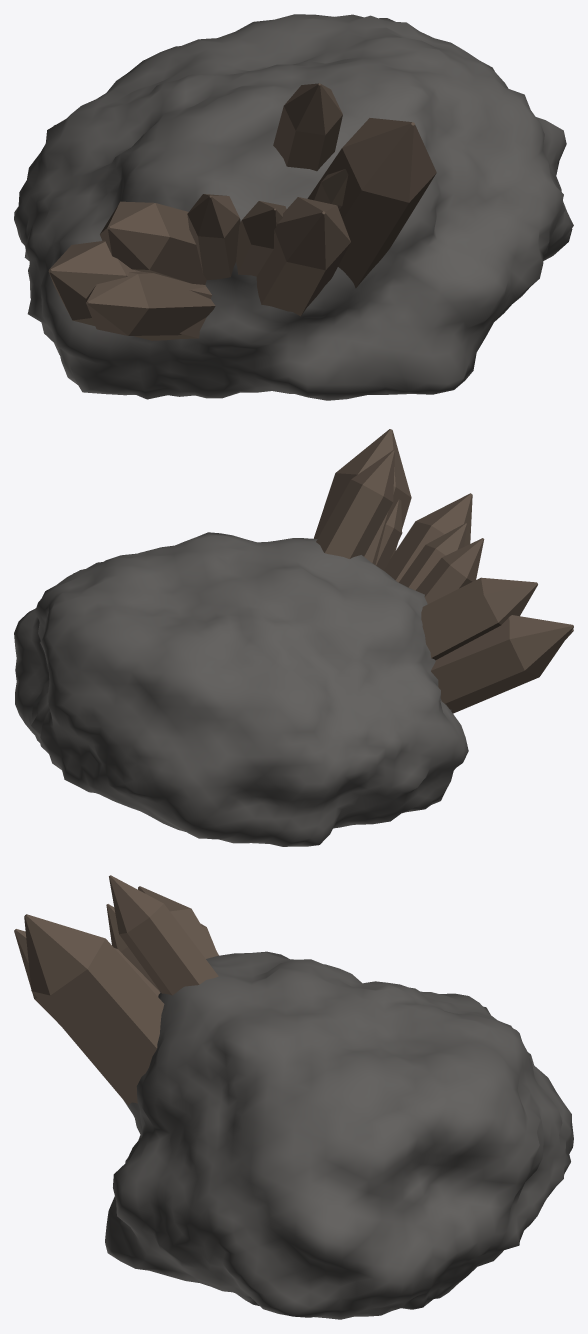
File: cassiterite_deep.glb
3 renders of one model, top to bottom at view 1: azimuth 30°, elevation 25°; view 2: azimuth 150°, elevation 25°; view 3: azimuth 270°, elevation 25°, orthographic. The views are drawn at different scales.
Parts seen in each view (by area): view 1: cassiterite_deep; view 2: cassiterite_deep; view 3: cassiterite_deep.
Boxes of the visible parts, <box> form: cassiterite_deep: <box>14,14,573,400</box>; cassiterite_deep: <box>14,429,573,846</box>; cassiterite_deep: <box>14,875,573,1319</box>.
Bounding box in the file's own units: 2.04 × 1.09 × 1.74.
